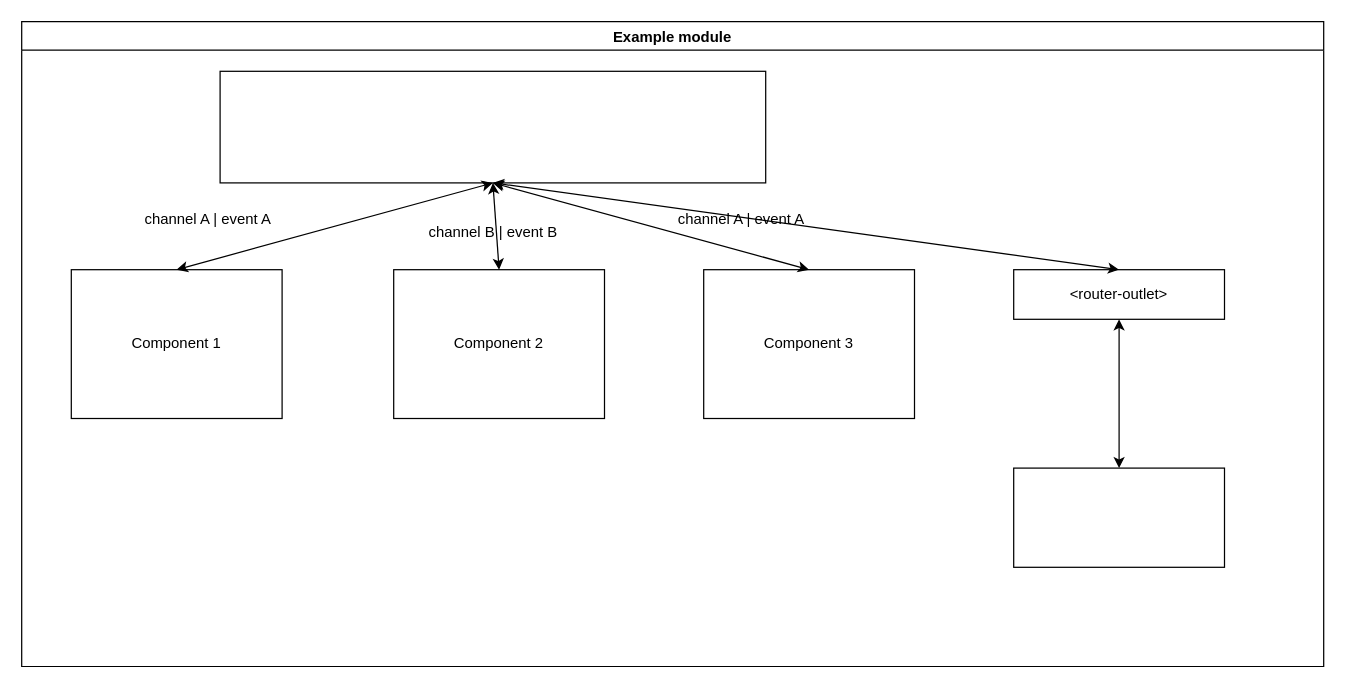
Some shapes in this 1345 by 688 pixel diagram are drawn without their labels. Each missing label, with the centre of its shape:
"Component 4" belongs at (x=1118, y=517).
"MESSAGE BUS SERVICE" belongs at (x=492, y=126).
